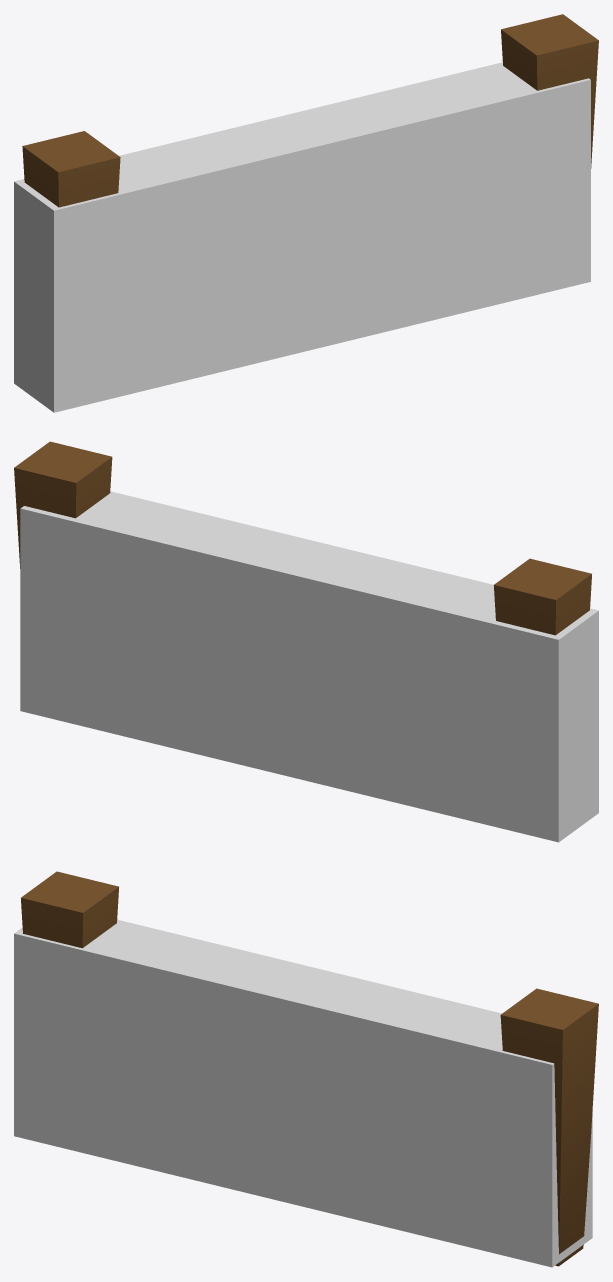
The model's file is fence_1.glb.
The picture shows the model from 3 angles, top to bottom: view 1: azimuth 30°, elevation 25°; view 2: azimuth 150°, elevation 25°; view 3: azimuth 330°, elevation 25°; orthographic projection.
Visible parts, largest first — view 1: Cube.001, Fence_01; view 2: Cube.001, Fence_01; view 3: Cube.001, Fence_01.
Boxes of the visible parts, left/top/right/bottom form: Cube.001: left=14, top=62, right=590, bottom=412; Fence_01: left=22, top=14, right=598, bottom=207; Cube.001: left=20, top=491, right=598, bottom=842; Fence_01: left=14, top=441, right=591, bottom=635; Cube.001: left=14, top=919, right=592, bottom=1267; Fence_01: left=21, top=871, right=598, bottom=1266.
Size of the model in its own units: 2.41 by 1.02 by 0.3055.
1 material, 1 textured.
